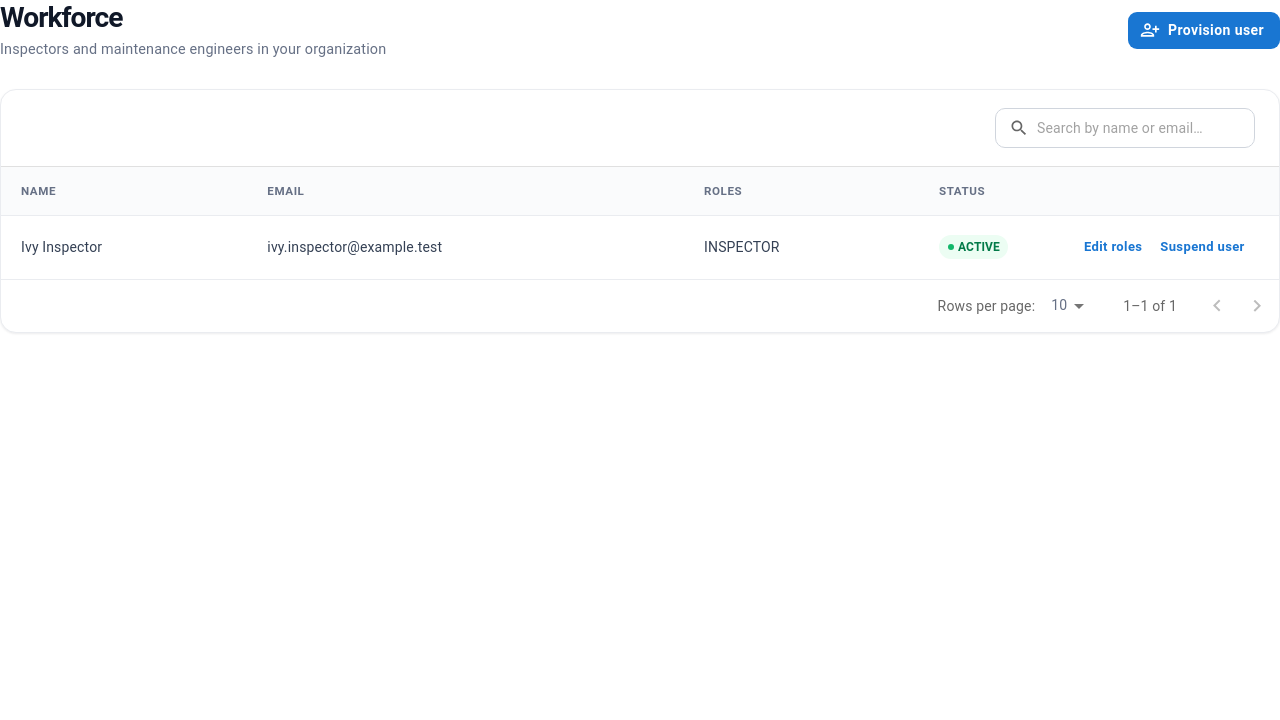
Test: WorkforcePage users tab › shows subscription denial as a warning inside the role editor
Click the button "Edit roles".
click(1113, 247)  # box [1079, 232, 1147, 263]
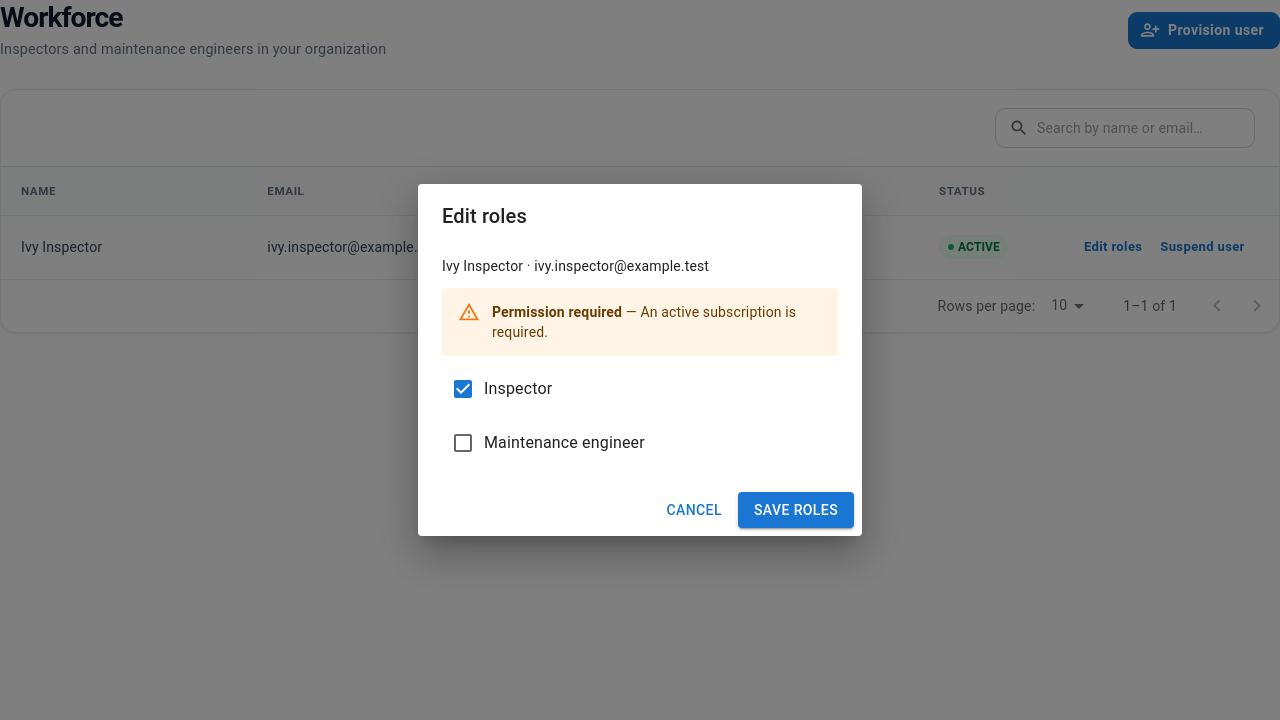
Result: the message with test id "permission-denied" shows "An active subscription is required." at [492, 304, 796, 340]
